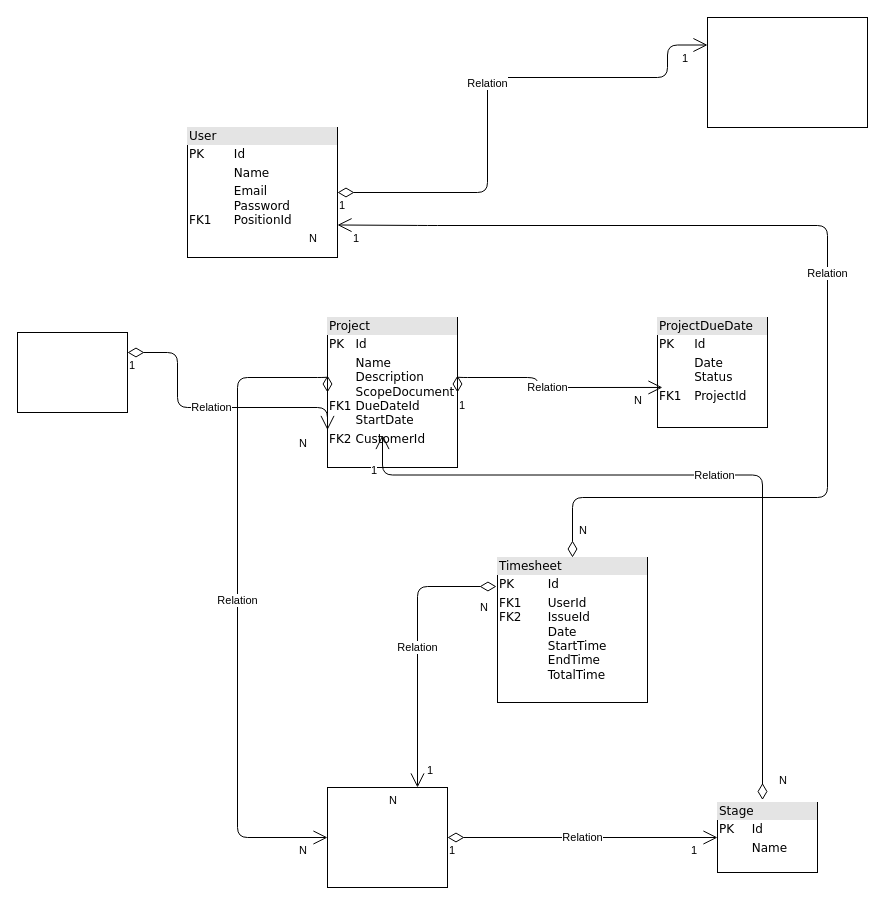
Some shapes in this 885 by 905 pixel diagram are drawn without their labels. The centre of each missing label's shape, as x and y in pixels:
Customer PK Id Name: pixel 72 372
Issue PK Id FK1 Name ProjectId FK2 StageId: pixel 387 837
Position PK Id Name Admin MonthTime: pixel 787 72
